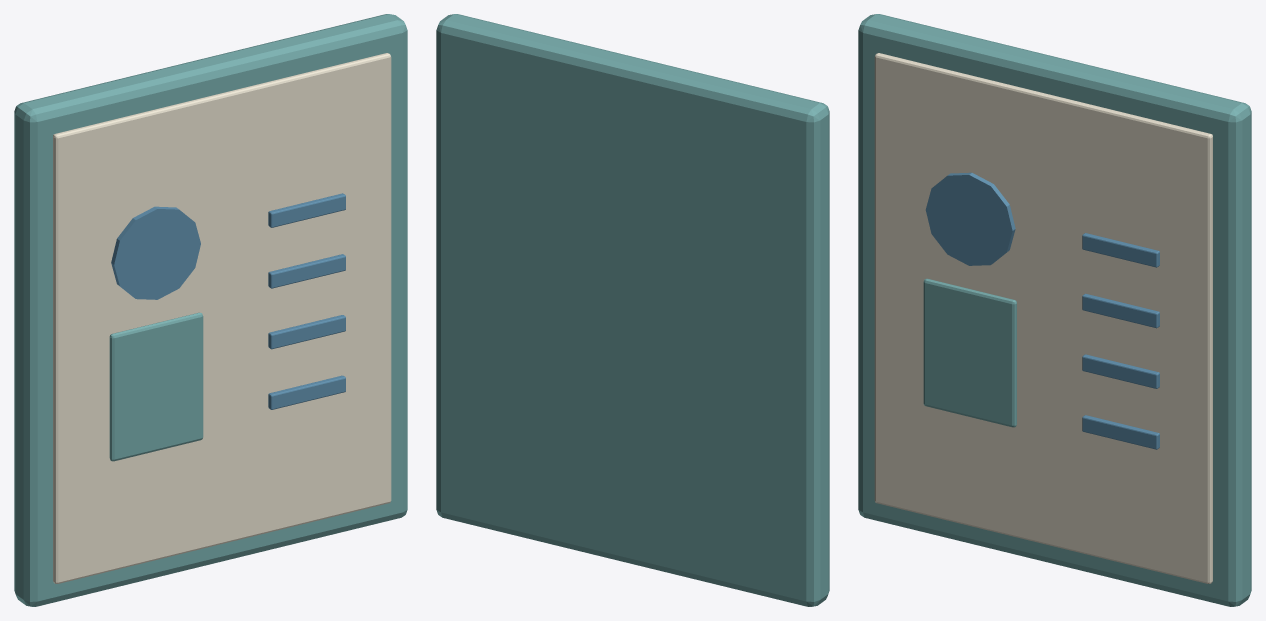
The model's file is lobby_T3_health_poster.glb.
3 views of the same model, side by side, from view 1: azimuth 30°, elevation 25°; view 2: azimuth 150°, elevation 25°; view 3: azimuth 330°, elevation 25° (orthographic).
Parts seen in each view (by area): view 1: lobby_T3_health_poster__Static_Assembly; view 2: lobby_T3_health_poster__Static_Assembly; view 3: lobby_T3_health_poster__Static_Assembly.
Part boxes in pixels (<box>): lobby_T3_health_poster__Static_Assembly: <box>14,14,407,606</box>; lobby_T3_health_poster__Static_Assembly: <box>436,14,829,606</box>; lobby_T3_health_poster__Static_Assembly: <box>858,14,1251,606</box>.
Bounding box in the file's own units: 0.66 × 0.82 × 0.0775.
